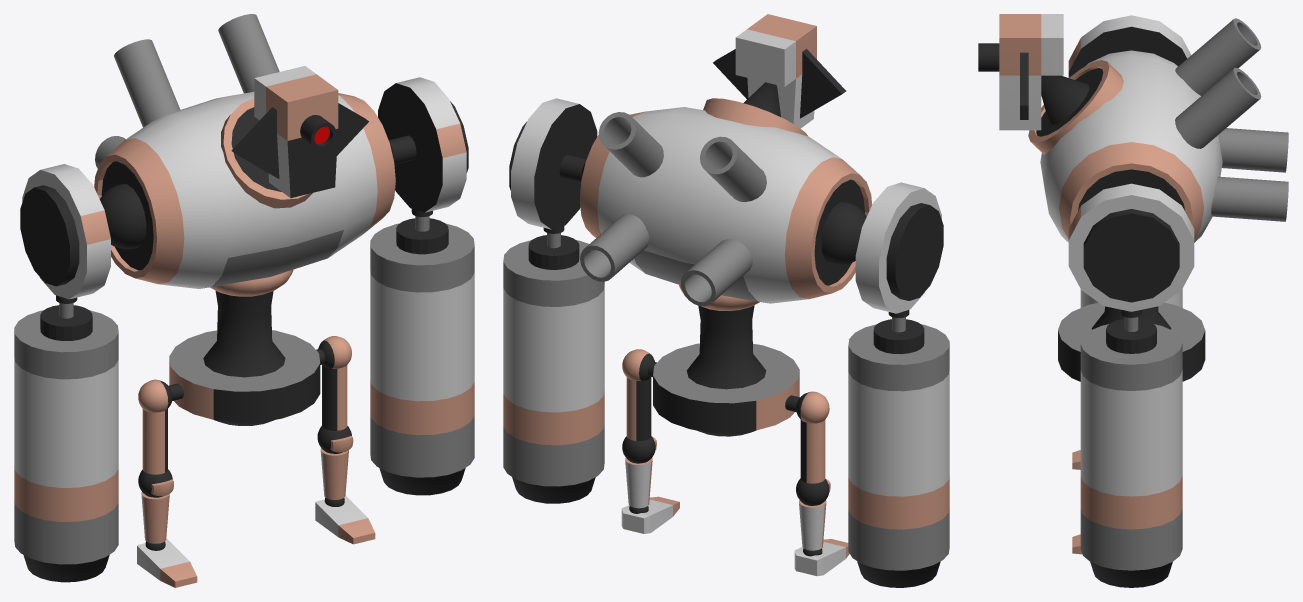
File: RobotSW.fbx
3 renders of one model, left to right at view 1: azimuth 30°, elevation 25°; view 2: azimuth 150°, elevation 25°; view 3: azimuth 270°, elevation 25°, orthographic. The views are drawn at different scales.
Visible parts, largest first — view 1: Chest, RightArm, LeftArm1, Head, Bum, Torso, Neck1, LeftLeg1, LeftLeg, pCube3, pCube4, pasted__pCylinder9 (+3 smaller); view 2: Chest, RightArm, LeftArm1, Bum, Head, Torso, LeftLeg1, LeftLeg, Neck1, pCube3, pCube4, pasted__pCylinder7 (+3 smaller); view 3: LeftArm1, Chest, Head, Neck1, RightArm, Bum, Torso.
Part boxes in pixels (x1,y1,x2,y2): Chest: (94,14,395,296); RightArm: (14,164,146,582); LeftArm1: (370,77,474,495); Head: (231,66,368,198); Bum: (169,330,320,425); Torso: (203,291,285,377); Neck1: (221,98,312,208); LeftLeg1: (138,379,183,474); LeftLeg: (316,336,351,430); pCube3: (315,496,375,544); pCube4: (137,538,197,587); pasted__pCylinder9: (141,492,169,543); Chest: (579,107,872,310); RightArm: (821,182,949,587); LeftArm1: (503,98,604,503); Bum: (653,343,799,436); Head: (713,14,846,128); Torso: (686,305,766,389); LeftLeg1: (785,391,829,483); LeftLeg: (622,349,656,440); Neck1: (703,82,807,136); pCube3: (621,496,679,533); pCube4: (794,539,849,576); pasted__pCylinder7: (625,458,652,508); LeftArm1: (1068,183,1194,587); Chest: (1040,18,1288,242); Head: (978,14,1063,130); Neck1: (1028,60,1123,154); RightArm: (1068,15,1190,307); Bum: (1058,302,1205,381); Torso: (1091,306,1171,329).
Size of the model in its own units: 40.47 by 42.83 by 25.11.
